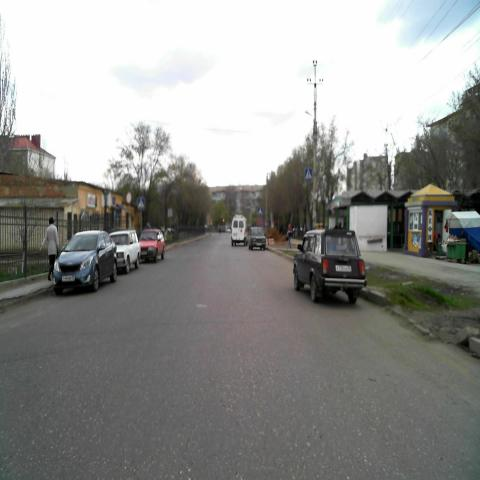3_2: (126, 191, 132, 204)
5_19_1: (304, 168, 312, 180), (138, 196, 144, 209)
5_20: (258, 207, 262, 215)
